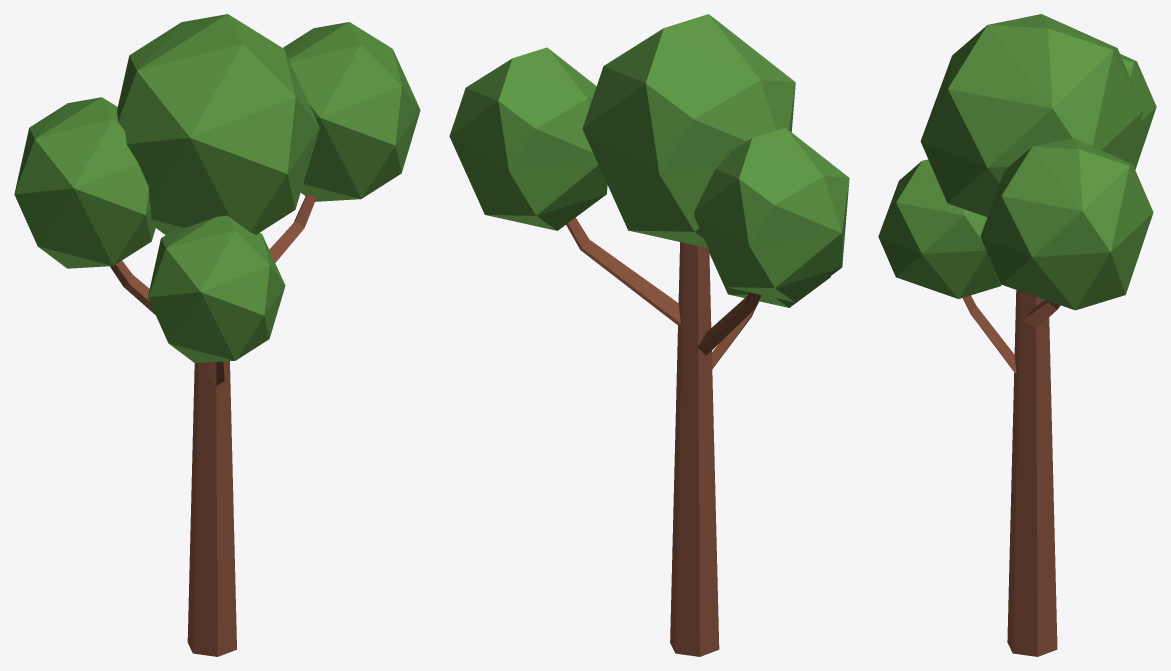
File: Tree_35_summer_mat.fbx
3 views of the same model, side by side, from view 1: azimuth 30°, elevation 25°; view 2: azimuth 150°, elevation 25°; view 3: azimuth 270°, elevation 25° (orthographic).
Visible parts, largest first — view 1: Tree_35_summer_mat; view 2: Tree_35_summer_mat; view 3: Tree_35_summer_mat.
Boxes of the visible parts, bbox=[...] form: Tree_35_summer_mat: bbox=[14, 14, 420, 656]; Tree_35_summer_mat: bbox=[449, 14, 849, 656]; Tree_35_summer_mat: bbox=[878, 14, 1156, 656].
Size of the model in its own units: 16.91 by 26.34 by 10.56.
